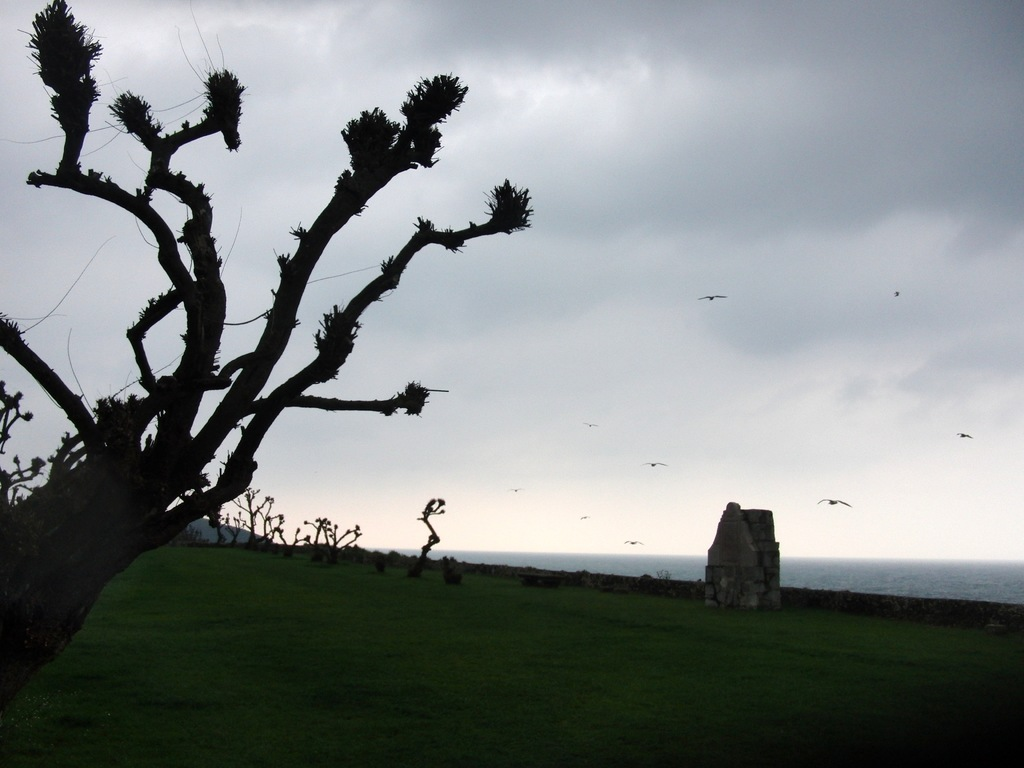Tree: (0, 0, 536, 711)
